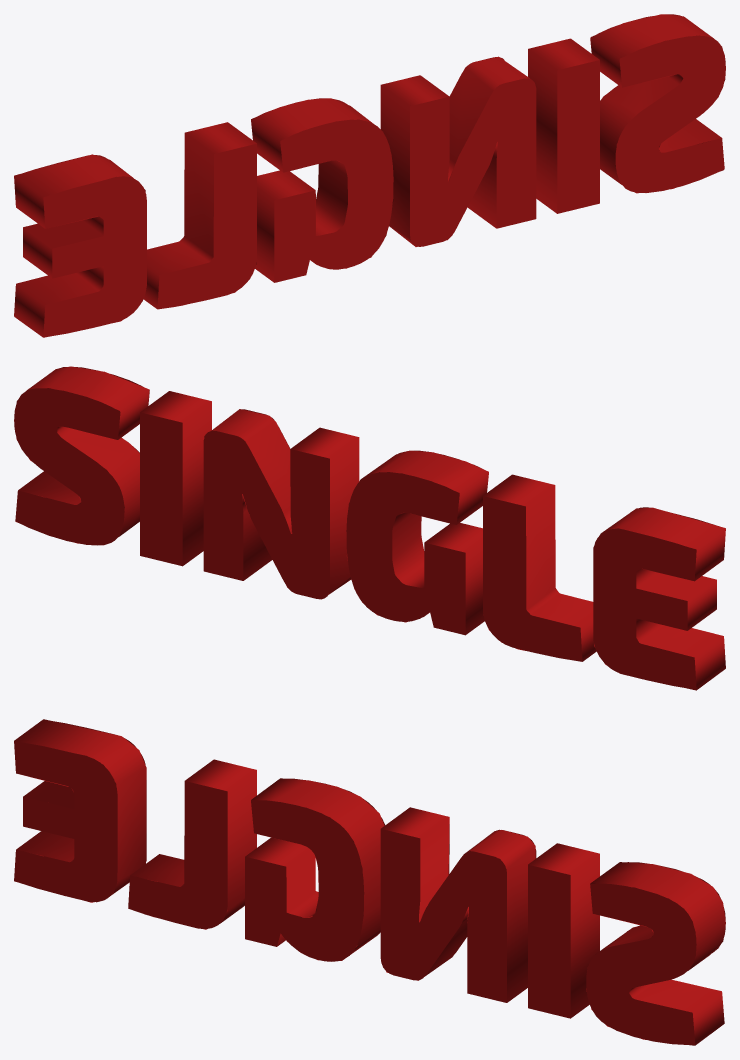
File: single.fbx
3 renders of one model, top to bottom at view 1: azimuth 30°, elevation 25°; view 2: azimuth 150°, elevation 25°; view 3: azimuth 330°, elevation 25°, orthographic.
Visible parts, largest first — view 1: Text; view 2: Text; view 3: Text.
Boxes of the visible parts, box(x1,y1,x2,y2) form: Text: box(14, 14, 725, 337); Text: box(14, 366, 725, 690); Text: box(14, 719, 725, 1045).
Bounding box in the file's own units: 10.75 × 2.26 × 0.8.
